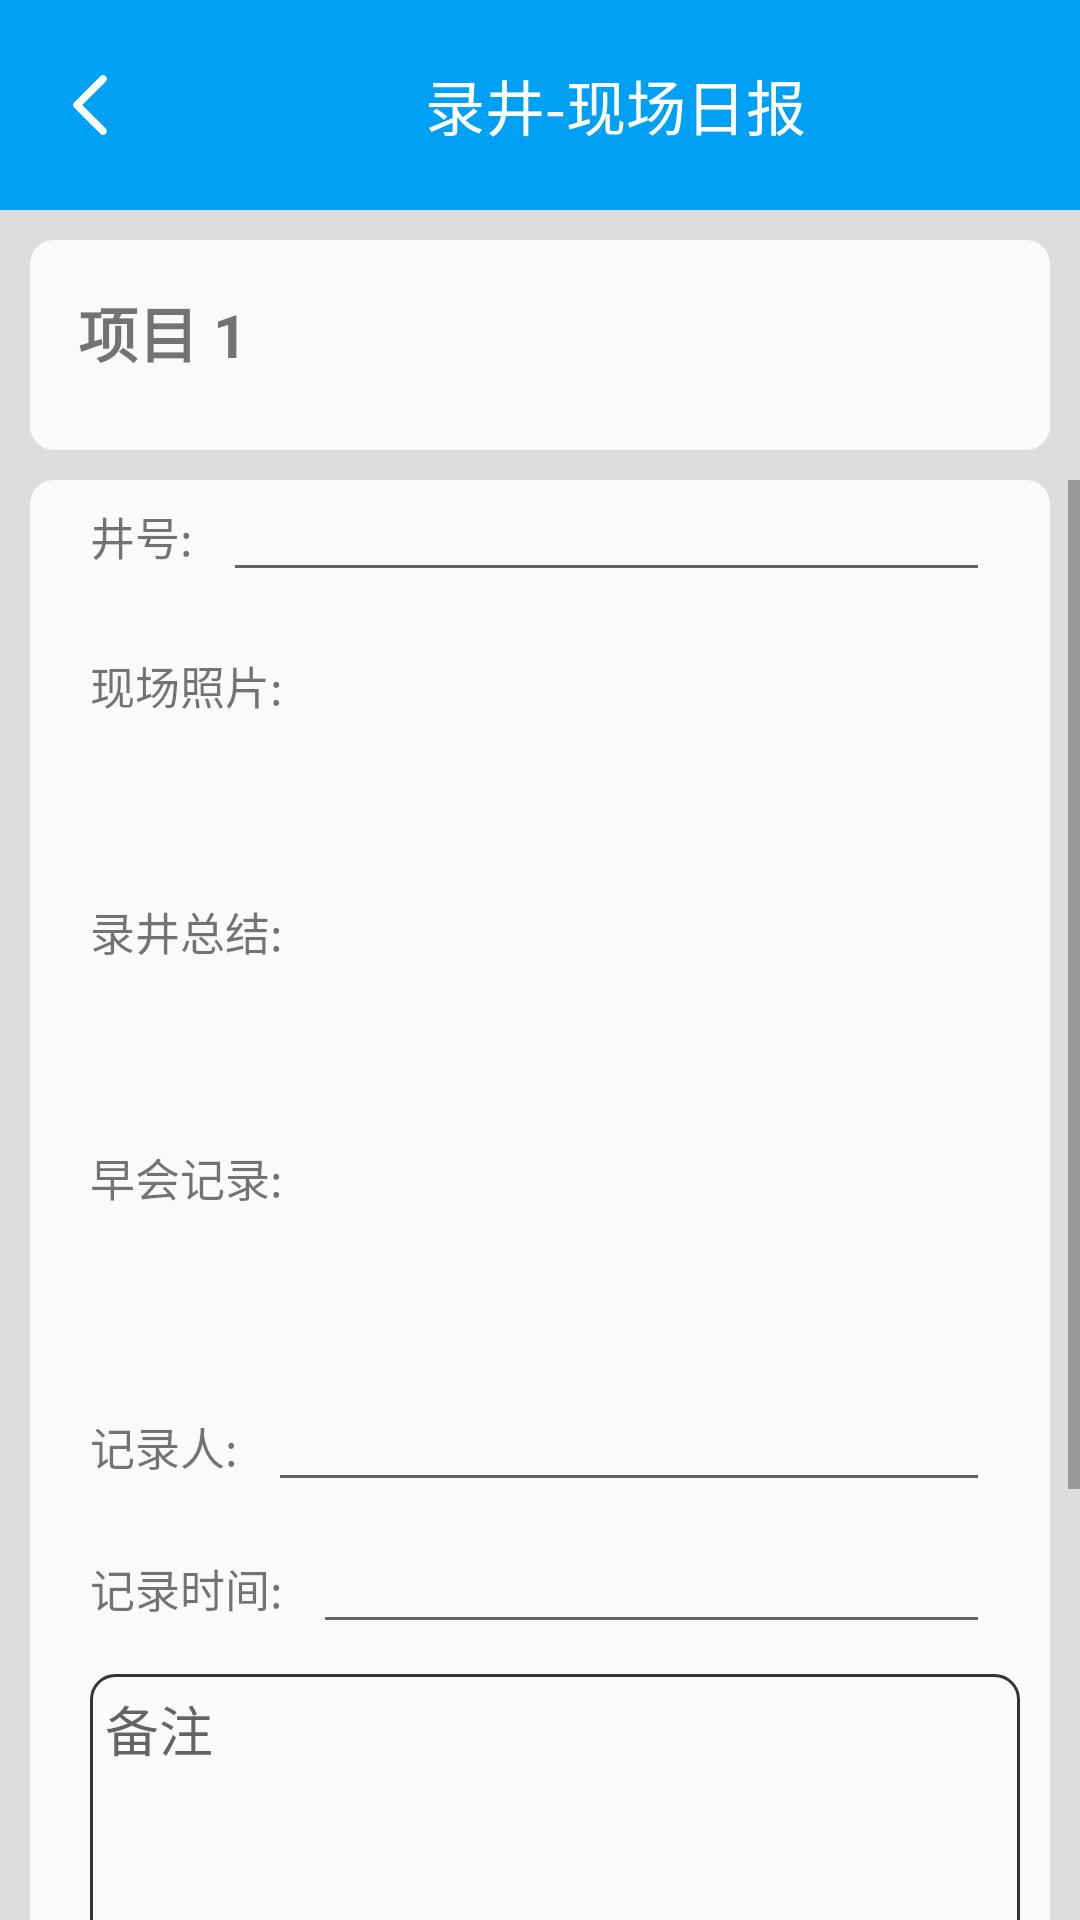

Where icons sit on this 1080w x 1920h app screen, as (x1, y1, x2, y2):
back: (73, 75, 107, 135)
